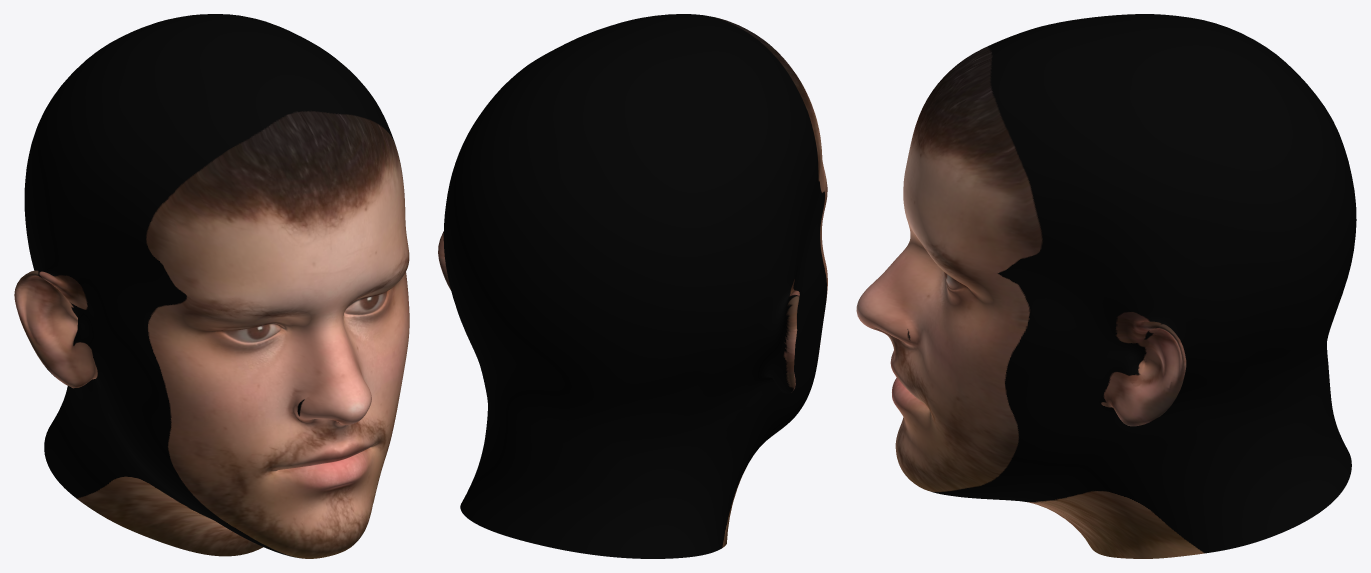
File: hussein.glb
The picture shows the model from 3 angles, left to right: view 1: azimuth 30°, elevation 25°; view 2: azimuth 150°, elevation 25°; view 3: azimuth 270°, elevation 25°; orthographic projection. The views are drawn at different scales.
Visible parts, largest first — view 1: FaceBuilderHead; view 2: FaceBuilderHead; view 3: FaceBuilderHead.
Boxes of the visible parts, x1,y1,x2,y2 form: FaceBuilderHead: (14, 14, 409, 558); FaceBuilderHead: (438, 14, 827, 558); FaceBuilderHead: (856, 14, 1356, 558).
Size of the model in its own units: 1.76 by 2.32 by 2.06.
Materials: 1 (1 with a texture image).
